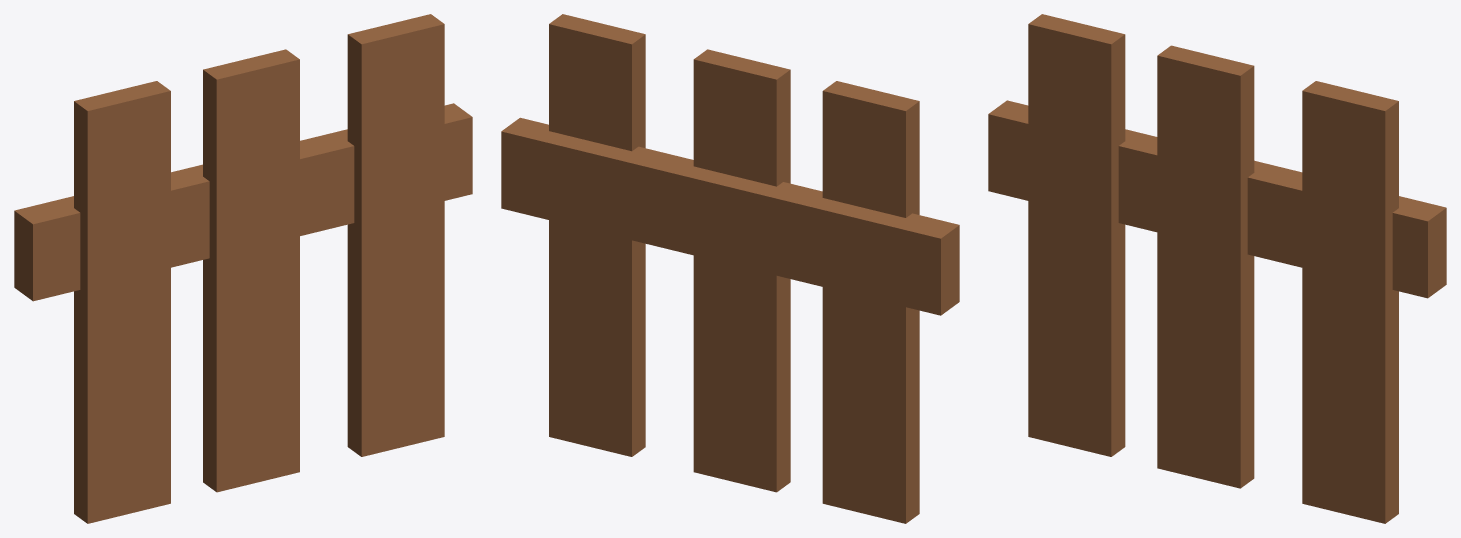
File: Cerca1.fbx
3 views of the same model, side by side, from view 1: azimuth 30°, elevation 25°; view 2: azimuth 150°, elevation 25°; view 3: azimuth 330°, elevation 25° (orthographic).
Parts seen in each view (by area): view 1: Madeira.002, Madeira, Madeira.003, Madeira.001; view 2: Madeira.001, Madeira, Madeira.003, Madeira.002; view 3: Madeira.003, Madeira, Madeira.002, Madeira.001.
Boxes of the visible parts, <box> form: Madeira.002: <box>347,14,444,456</box>; Madeira: <box>74,81,170,523</box>; Madeira.003: <box>203,49,299,492</box>; Madeira.001: <box>14,103,472,301</box>; Madeira.001: <box>501,117,959,315</box>; Madeira: <box>822,81,919,523</box>; Madeira.003: <box>693,49,790,492</box>; Madeira.002: <box>549,14,645,456</box>; Madeira.003: <box>1157,45,1254,488</box>; Madeira: <box>1028,14,1125,456</box>; Madeira.002: <box>1302,81,1398,523</box>; Madeira.001: <box>988,100,1446,298</box>.
Size of the model in its own units: 273 by 245 by 28.13.
